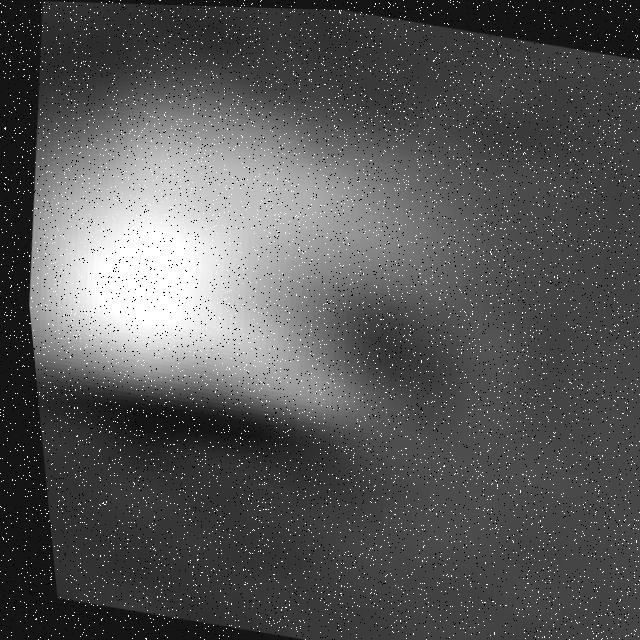person: (5, 55, 559, 478)
